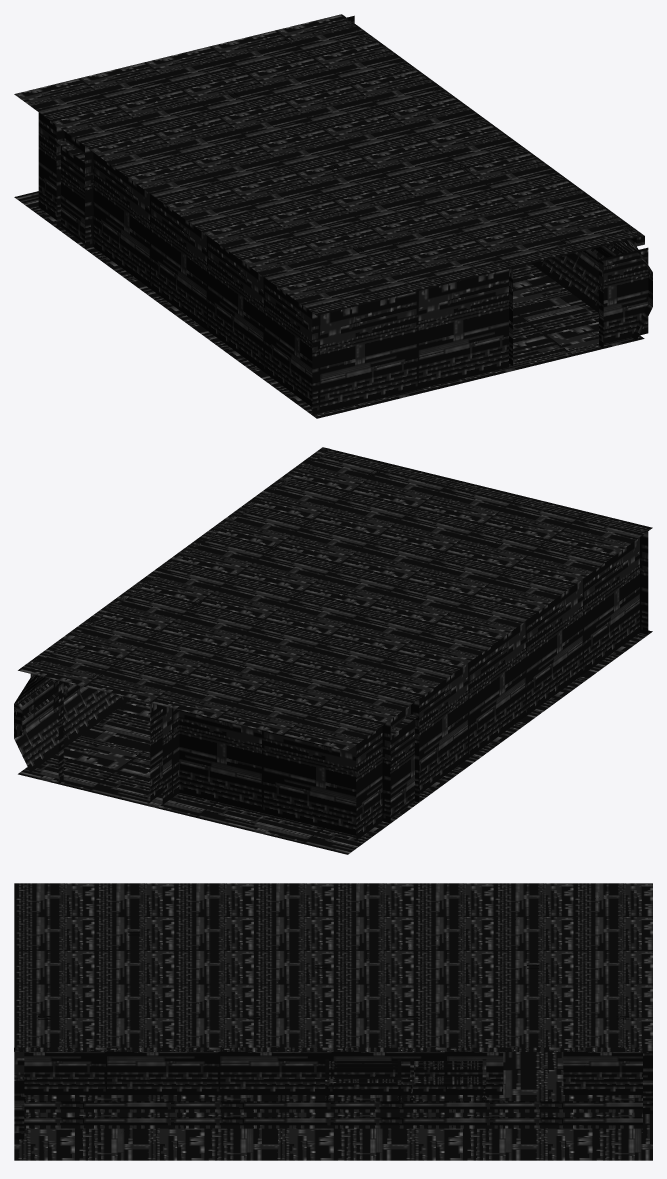
File: medibay_opt.obj
3 renders of one model, top to bottom at view 1: azimuth 30°, elevation 25°; view 2: azimuth 150°, elevation 25°; view 3: azimuth 270°, elevation 25°, orthographic. The views are drawn at different scales.
Bounding box in the file's own units: 1312 × 389 × 2049.
